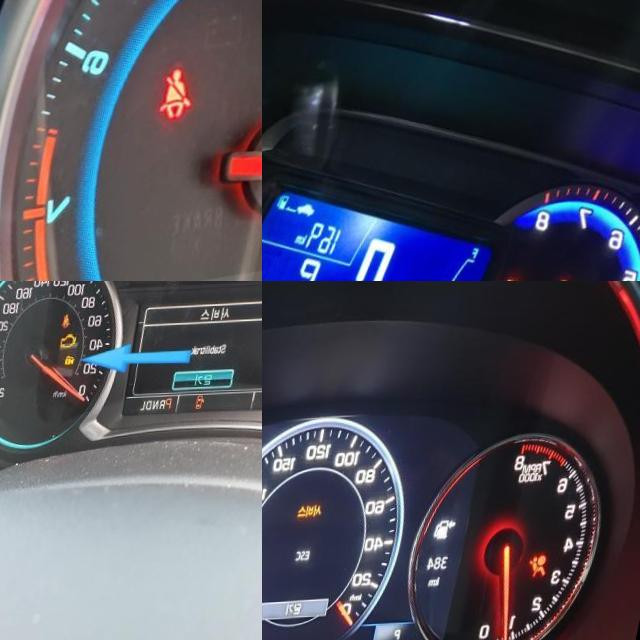Doors: (212, 397, 222, 410)
